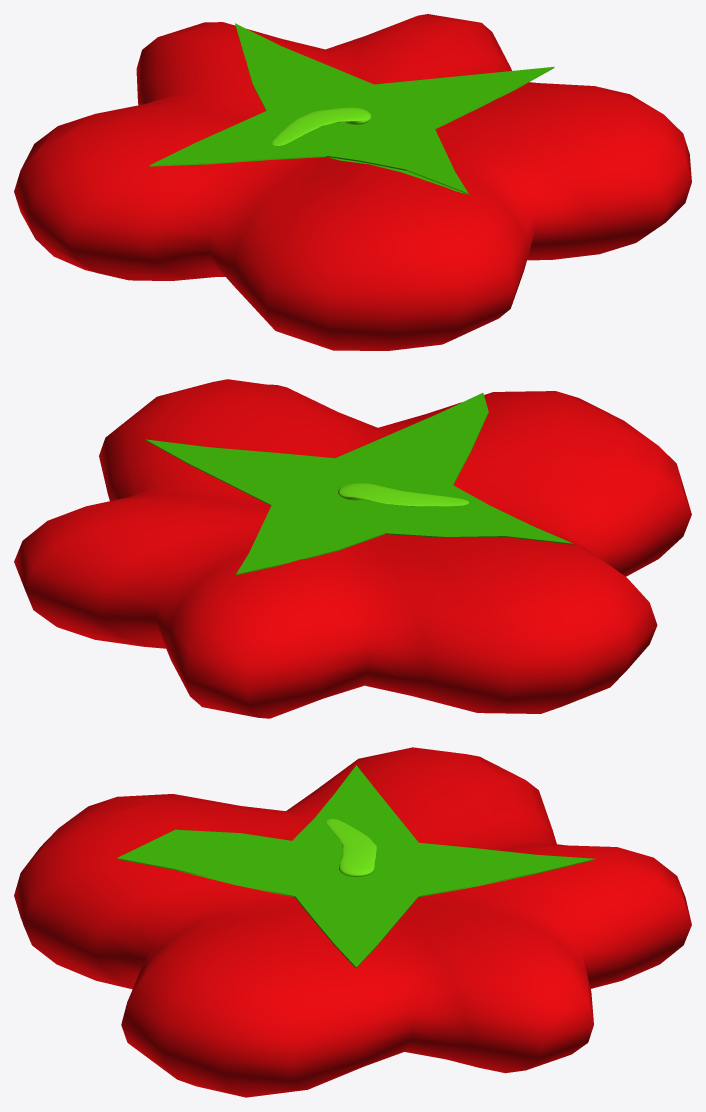
The model's file is tomato_squashed.glb.
3 views of the same model, one above another, from view 1: azimuth 30°, elevation 25°; view 2: azimuth 150°, elevation 25°; view 3: azimuth 270°, elevation 25° (orthographic). The views are drawn at different scales.
Visible parts, largest first — view 1: Sphere, Circle, Cylinder; view 2: Sphere, Circle, Cylinder; view 3: Sphere, Circle, Cylinder.
Boxes of the visible parts, box(x1,y1,x2,y2) form: Sphere: box(14, 14, 691, 350); Circle: box(149, 23, 554, 194); Cylinder: box(272, 107, 371, 146); Sphere: box(14, 379, 691, 718); Circle: box(145, 393, 573, 575); Cylinder: box(338, 483, 468, 506); Sphere: box(14, 747, 691, 1097); Circle: box(116, 765, 595, 968); Cylinder: box(326, 818, 376, 876).
Bounding box in the file's own units: 0.697 × 0.1911 × 0.7044.
Materials: 3 (3 with a texture image).
